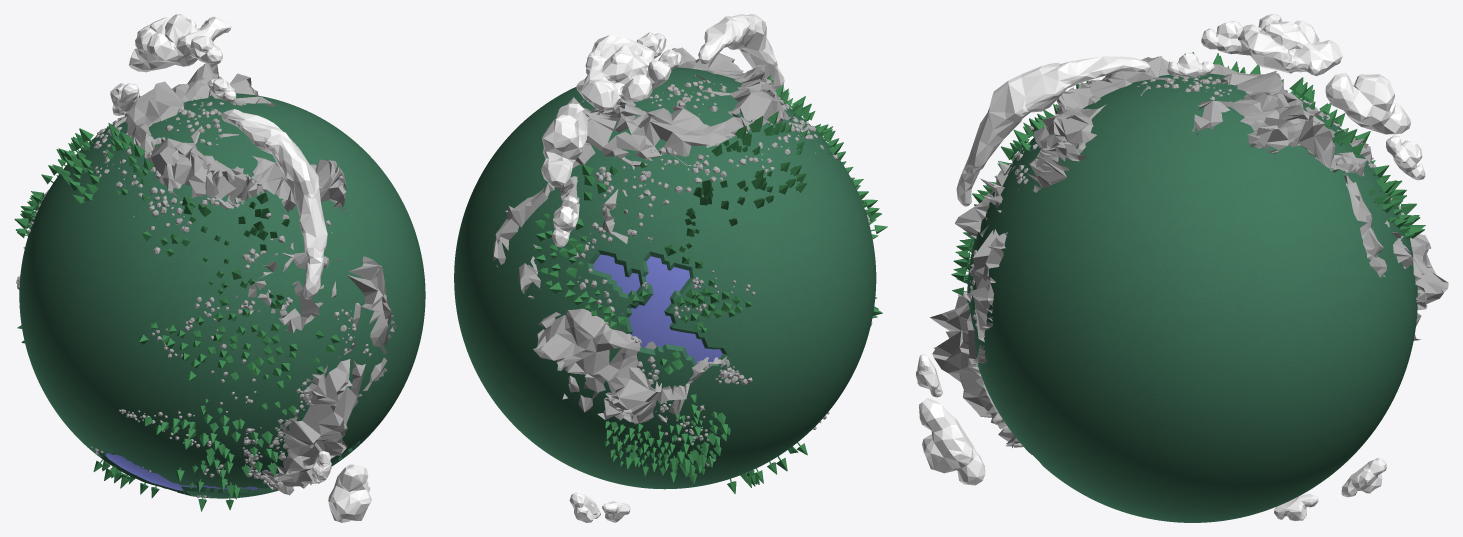
File: low_poly_world.glb
The picture shows the model from 3 angles, left to right: view 1: azimuth 30°, elevation 25°; view 2: azimuth 150°, elevation 25°; view 3: azimuth 270°, elevation 25°; orthographic projection. The views are drawn at different scales.
Visible parts, largest first — view 1: GeoSphere004, Object008_valkoinen_0, Object438_Material #4_0, object 4, Object017_valkoinen_0, Box039__0; view 2: GeoSphere004, Object008_valkoinen_0, object 4, Object438_Material #4_0, Object017_valkoinen_0, Box039__0; view 3: GeoSphere004, Object008_valkoinen_0, Object438_Material #4_0, object 4, Object017_valkoinen_0.
Boxes of the visible parts, x1,y1,x2,y2 form: GeoSphere004: (19, 93, 425, 498); Object008_valkoinen_0: (114, 63, 396, 495); Object438_Material #4_0: (110, 14, 371, 522); object 4: (14, 95, 340, 511); Object017_valkoinen_0: (16, 102, 371, 498); Box039__0: (104, 453, 261, 490); GeoSphere004: (454, 67, 876, 489); Object008_valkoinen_0: (493, 47, 797, 424); object 4: (535, 75, 887, 493); Object438_Material #4_0: (541, 14, 792, 522); Object017_valkoinen_0: (574, 80, 872, 466); Box039__0: (593, 254, 722, 363); GeoSphere004: (967, 73, 1417, 522); Object008_valkoinen_0: (930, 56, 1448, 447); Object438_Material #4_0: (916, 14, 1425, 521); object 4: (951, 52, 1425, 295); Object017_valkoinen_0: (969, 76, 1403, 327).
Bounding box in the file's own units: 2000 × 2450 × 2364.
6 materials, 1 textured.
